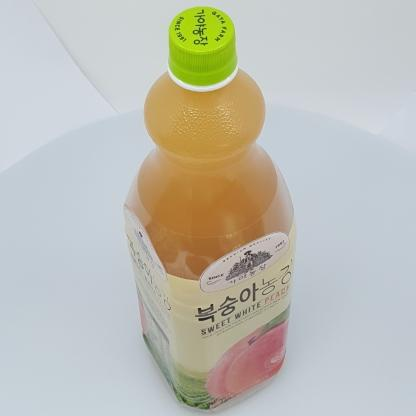-------1-5L: (122, 6, 298, 412)
